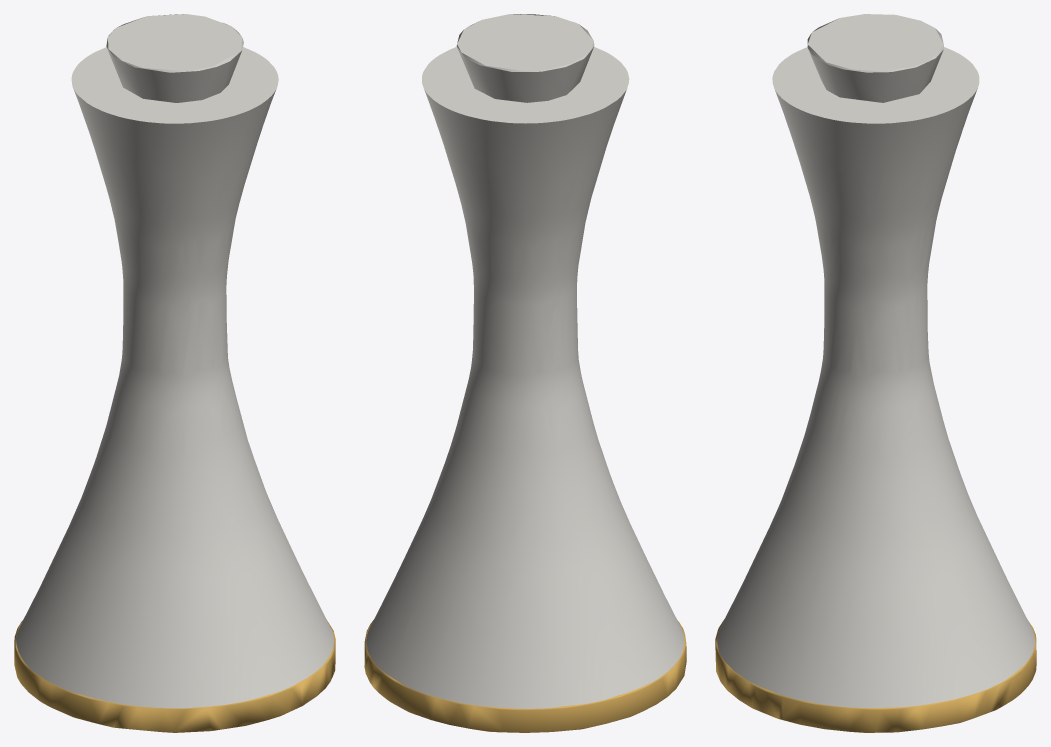
The model's file is 05_dama_bila.glb.
The picture shows the model from 3 angles, left to right: view 1: azimuth 30°, elevation 25°; view 2: azimuth 150°, elevation 25°; view 3: azimuth 270°, elevation 25°; orthographic projection.
Visible parts, largest first — view 1: 05_dama_telo_0, 05_dama_telo_1, 05_dama_podstavec; view 2: 05_dama_telo_0, 05_dama_telo_1, 05_dama_podstavec; view 3: 05_dama_telo_0, 05_dama_telo_1, 05_dama_podstavec.
Part boxes in pixels (bbox=[...]): 05_dama_telo_0: bbox=[16, 47, 333, 708]; 05_dama_telo_1: bbox=[106, 14, 243, 102]; 05_dama_podstavec: bbox=[14, 620, 335, 732]; 05_dama_telo_0: bbox=[366, 47, 684, 708]; 05_dama_telo_1: bbox=[456, 14, 594, 102]; 05_dama_podstavec: bbox=[364, 620, 686, 732]; 05_dama_telo_0: bbox=[717, 47, 1034, 707]; 05_dama_telo_1: bbox=[807, 14, 943, 102]; 05_dama_podstavec: bbox=[715, 619, 1036, 732].
Size of the model in its own units: 0.044 by 0.094 by 0.044.
